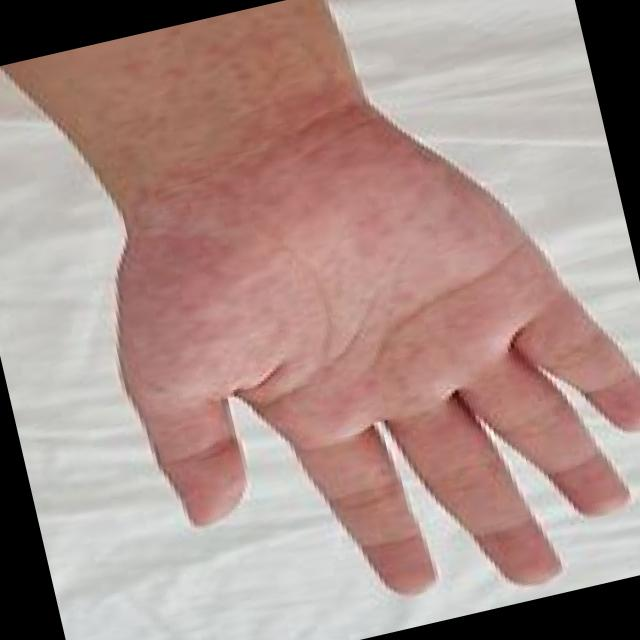not-gloved: (63, 56, 640, 640)
